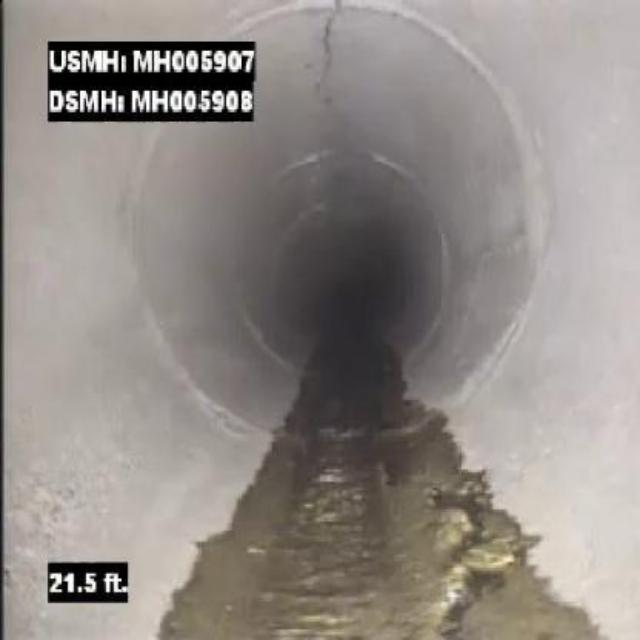Buckling: (414, 478, 522, 632)
Crack: (315, 6, 346, 125)
